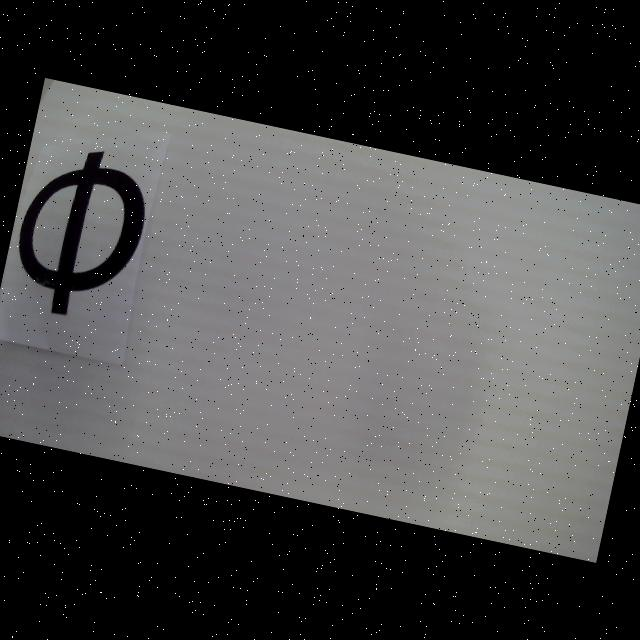PHI: (4, 136, 158, 328)
